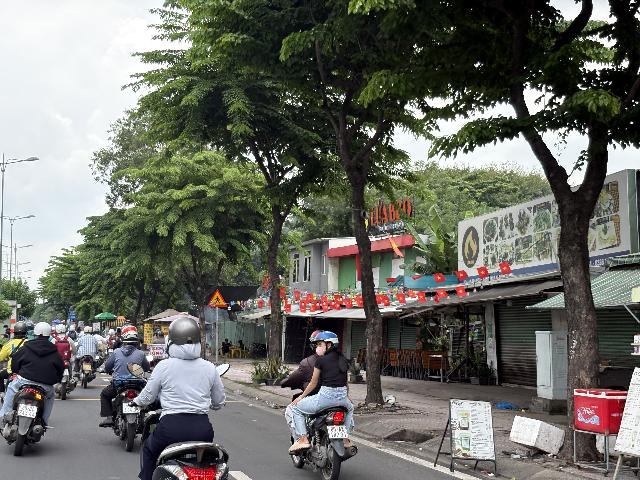duong-nguoi-di-bo-cat-ngang: (208, 289, 227, 307)
